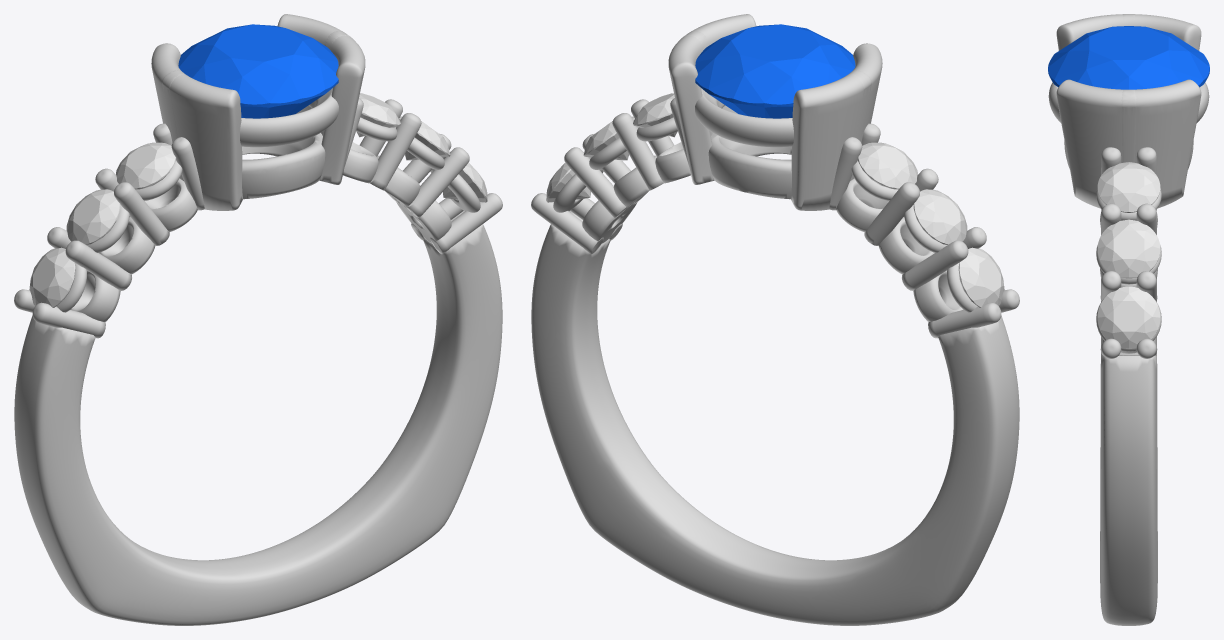
The model's file is bluesapphire-round-platinum-halfmoonbezel-europeanshank-3stone.glb.
3 renders of one model, left to right at view 1: azimuth 30°, elevation 25°; view 2: azimuth 150°, elevation 25°; view 3: azimuth 270°, elevation 25°, orthographic. The views are drawn at different scales.
Visible parts, largest first — view 1: metal, stone, side.004, side.005, side.003, side, side.001, side.002; view 2: metal, stone, side.004, side.005, side.003, side, side.001, side.002; view 3: metal, stone, side.002, side.001, side.
Part boxes in pixels (x1,y1,x2,y2): metal: (14,14,502,625); stone: (178,24,338,118); side.004: (66,189,120,244); side.005: (29,247,75,307); side.003: (116,142,175,189); side: (356,93,400,137); side.001: (399,116,450,160); side.002: (443,157,487,202); metal: (531,14,1019,625); stone: (695,24,855,118); side.004: (913,189,967,244); side.005: (958,247,1004,307); side.003: (858,142,917,189); side: (633,93,677,137); side.001: (583,116,634,160); side.002: (546,157,590,202); metal: (1048,14,1209,625); stone: (1048,26,1209,89); side.002: (1097,286,1160,348); side.001: (1097,219,1160,278); side: (1097,162,1160,212).
Size of the model in its own units: 20.71 by 23.81 by 6.44.
